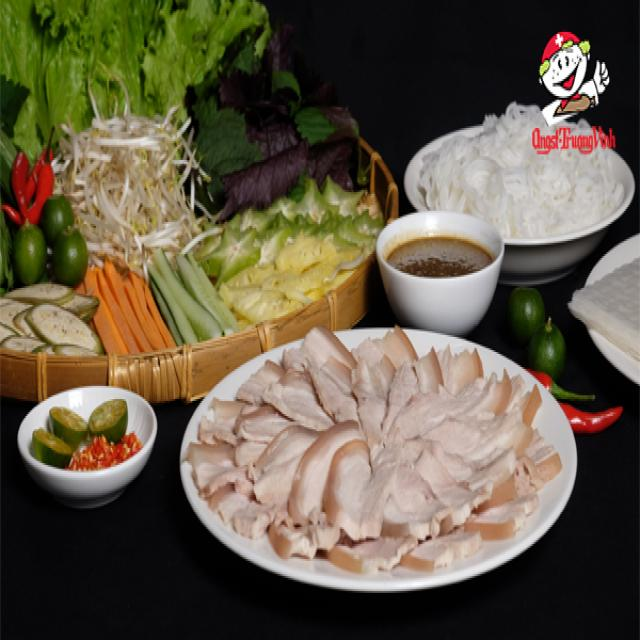ca rot: (76, 258, 175, 352)
ot: (2, 149, 53, 224), (558, 401, 622, 433)
thit luoc: (187, 329, 559, 571)
